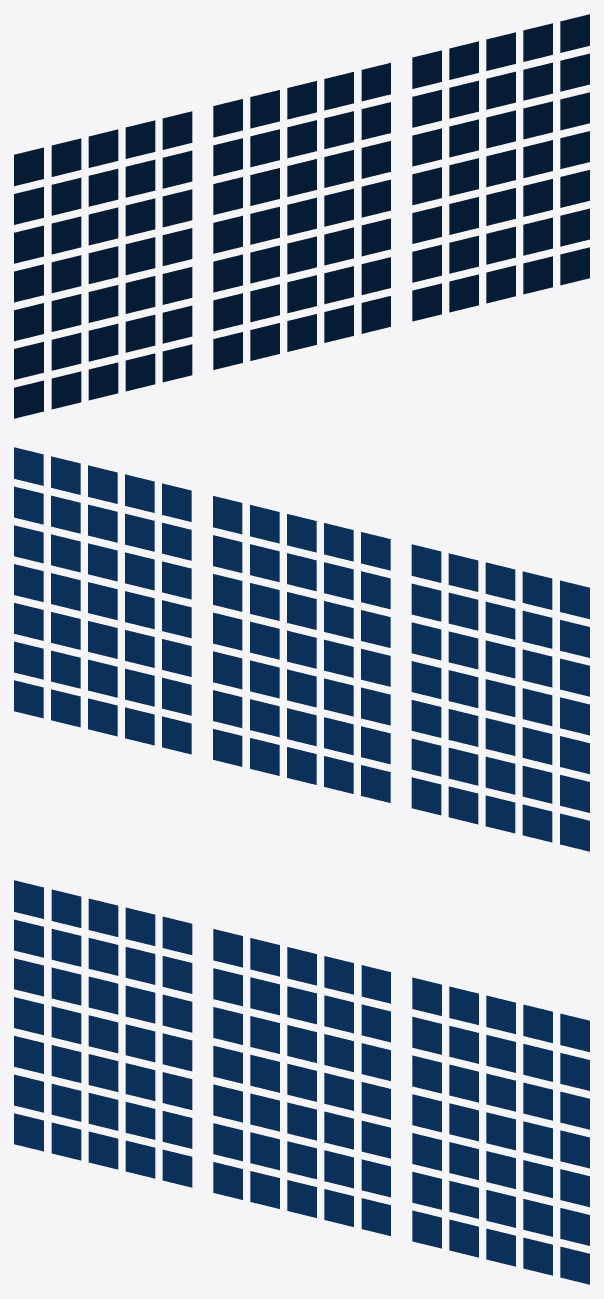
3 views of the same model, one above another, from view 1: azimuth 30°, elevation 25°; view 2: azimuth 150°, elevation 25°; view 3: azimuth 330°, elevation 25° (orthographic).
Parts seen in each view (by area): view 1: Joint_0_Object_0; view 2: Joint_0_Object_0; view 3: Joint_0_Object_0.
Boxes of the visible parts, x1,y1,x2,y2 form: Joint_0_Object_0: [14, 14, 589, 418]; Joint_0_Object_0: [14, 447, 589, 851]; Joint_0_Object_0: [14, 880, 589, 1284].
Size of the model in its own units: 1361 by 596 by 0.
